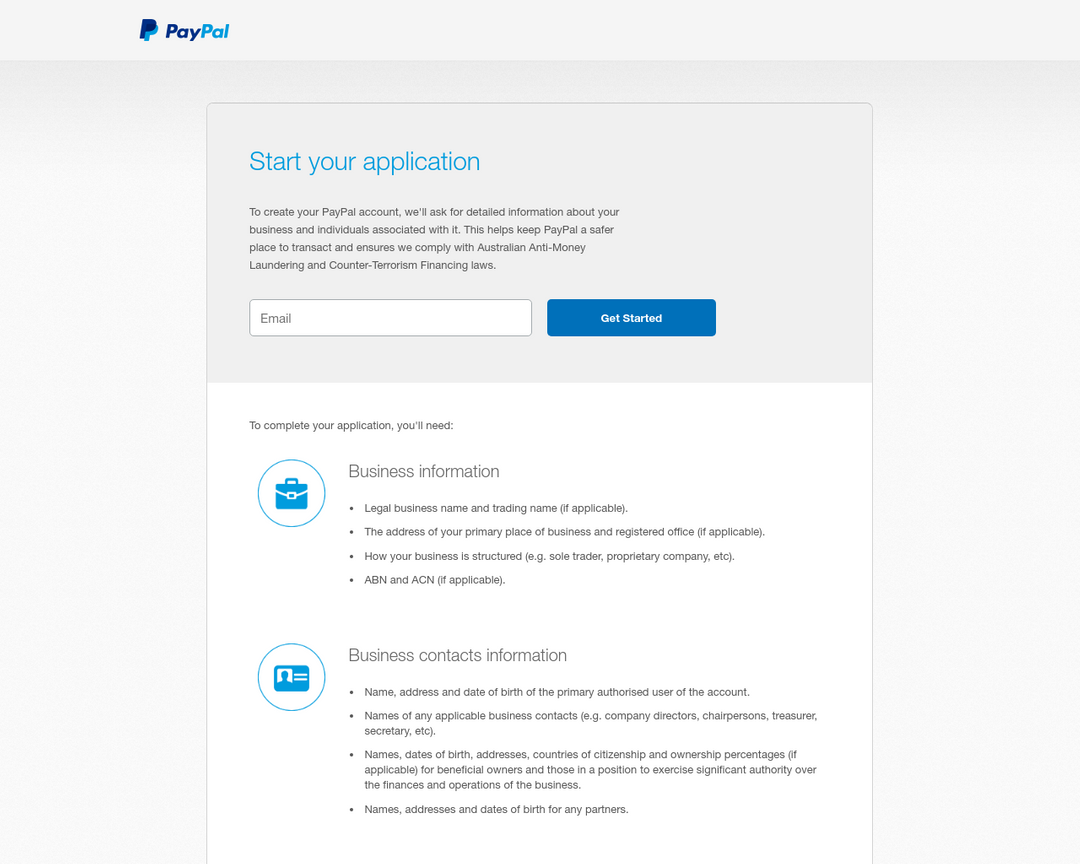Paypal: (138, 16, 232, 50)
